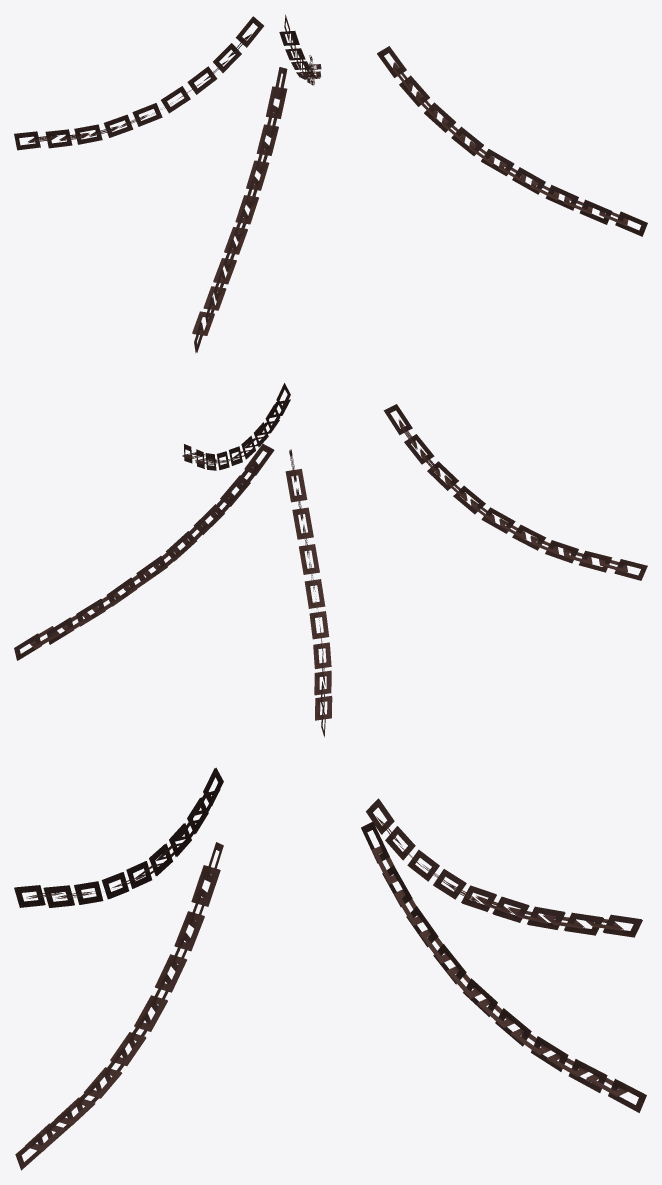
Rendered from shenmijitan_04.FBX.
The picture shows the model from 3 angles, top to bottom: view 1: azimuth 30°, elevation 25°; view 2: azimuth 150°, elevation 25°; view 3: azimuth 270°, elevation 25°; orthographic projection. The views are drawn at different scales.
Parts seen in each view (by area): view 1: shenmijitan_04; view 2: shenmijitan_04; view 3: shenmijitan_04.
Part boxes in pixels (x1,y1,x2,y2): shenmijitan_04: (14, 14, 647, 353); shenmijitan_04: (14, 383, 647, 737); shenmijitan_04: (14, 767, 646, 1170).
Size of the model in its own units: 196 by 78.48 by 189.
